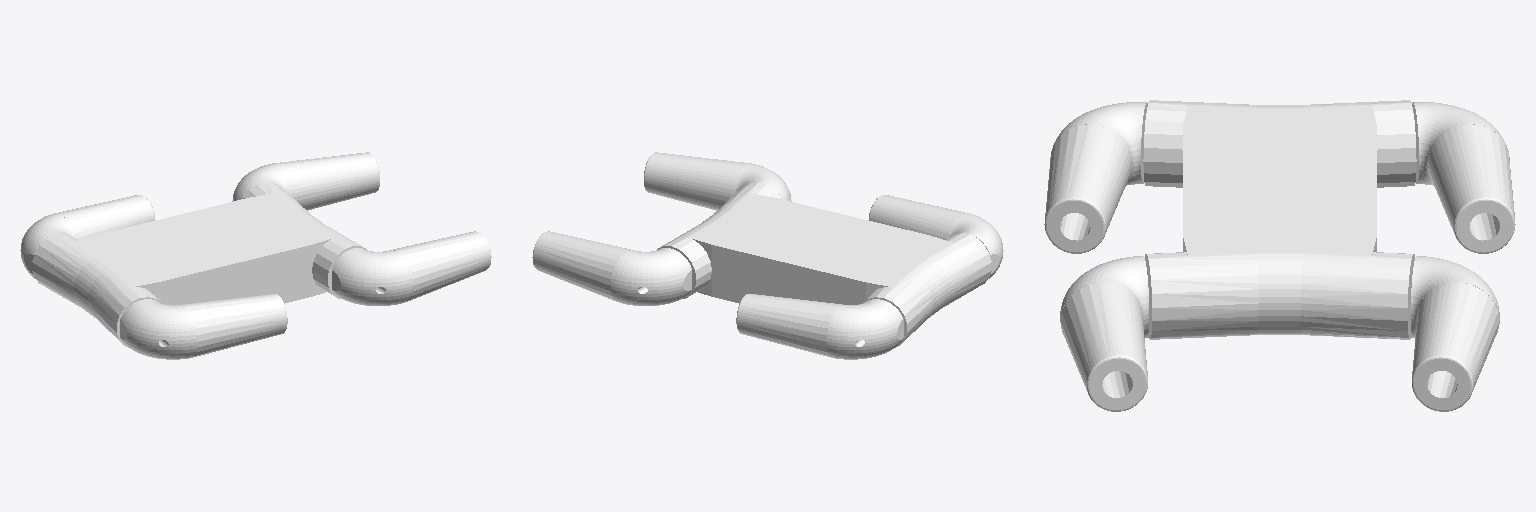
The robot description file, URDF, robot "6_degree":
<?xml version="1.0" encoding="utf-8"?>
<!-- This URDF was automatically created by SolidWorks to URDF Exporter! Originally created by [author] ([email redacted]) 
     Commit Version: 1.5.1-0-g916b5db  Build Version: 1.5.7152.31018
     For more information, please see http://wiki.ros.org/sw_urdf_exporter -->
<robot
  name="6_degree">
  <link
    name="base_link">
    <inertial>
      <origin
        xyz="4.1633E-17 2.2879E-08 3.4694E-18"
        rpy="0 0 0" />
      <mass
        value="2.942" />
      <inertia
        ixx="0.0109371"
        ixy="3.7885E-19"
        ixz="-1.0475E-10"
        iyy="0.0387408"
        iyz="2.1879E-19"
        izz="0.0470592" />
    </inertial>
    <visual>
      <origin
        xyz="0 0 0"
        rpy="0 0 0" />
      <geometry>
        <mesh
          filename="package://6_degree/meshes/base_link.STL" />
      </geometry>
      <material
        name="">
        <color
          rgba="1 1 1 1" />
      </material>
    </visual>
    <collision>
      <origin
        xyz="0 0 0"
        rpy="0 0 0" />
      <geometry>
        <mesh
          filename="package://6_degree/meshes/base_link.STL" />
      </geometry>
    </collision>
  </link>
  <link
    name="left_front_link">
    <inertial>
      <origin
        xyz="-3.0104E-08 0.056829 -0.036011"
        rpy="0 0 0" />
      <mass
        value="0.095" />
      <inertia
        ixx="0.0002672"
        ixy="6.0354E-10"
        ixz="9.5063E-10"
        iyy="0.0000540"
        iyz="2.33E-05"
        izz="0.0002642" />
    </inertial>
    <visual>
      <origin
        xyz="0 0 0"
        rpy="0 0 0" />
      <geometry>
        <mesh
          filename="package://6_degree/meshes/left_front_link.STL" />
      </geometry>
      <material
        name="">
        <color
          rgba="1 1 1 1" />
      </material>
    </visual>
    <collision>
      <origin
        xyz="0 0 0"
        rpy="0 0 0" />
      <geometry>
        <mesh
          filename="package://6_degree/meshes/left_front_link.STL" />
      </geometry>
    </collision>
  </link>
  <joint
    name="left_front_leg"
    type="continuous">
    <origin
      xyz="0.14077 0.10244 0"
      rpy="1.6755 1.5708 0" />
    <parent
      link="base_link" />
    <child
      link="left_front_link" />
    <axis
      xyz="0 0 -1" />
    <limit
      effort="5"
      velocity="487" />
  </joint>
  <link
    name="right_front_link">
    <inertial>
      <origin
        xyz="3.0104E-08 0.056829 0.036011"
        rpy="0 0 0" />
      <mass
        value="0.095" />
      <inertia
        ixx="0.0002672"
        ixy="-6.0354E-10"
        ixz="9.5063E-10"
        iyy="0.0000540"
        iyz="-2.33E-05"
        izz="0.0002642" />
    </inertial>
    <visual>
      <origin
        xyz="0 0 0"
        rpy="0 0 0" />
      <geometry>
        <mesh
          filename="package://6_degree/meshes/right_front_link.STL" />
      </geometry>
      <material
        name="">
        <color
          rgba="1 1 1 1" />
      </material>
    </visual>
    <collision>
      <origin
        xyz="0 0 0"
        rpy="0 0 0" />
      <geometry>
        <mesh
          filename="package://6_degree/meshes/right_front_link.STL" />
      </geometry>
    </collision>
  </link>
  <joint
    name="right_front_leg"
    type="continuous">
    <origin
      xyz="0.14077 -0.10244 0"
      rpy="1.4661 1.5708 0" />
    <parent
      link="base_link" />
    <child
      link="right_front_link" />
    <axis
      xyz="0 0 1" />
    <limit
      effort="5"
      velocity="487" />
  </joint>
  <link
    name="right_back_link">
    <inertial>
      <origin
        xyz="6.1735E-09 0.05683 0.03601"
        rpy="0 0 0" />
      <mass
        value="0.095" />
      <inertia
        ixx="0.0002672"
        ixy="-6.7284E-10"
        ixz="6.8395E-10"
        iyy="0.0000540"
        iyz="-2.33E-05"
        izz="0.0002642" />
    </inertial>
    <visual>
      <origin
        xyz="0 0 0"
        rpy="0 0 0" />
      <geometry>
        <mesh
          filename="package://6_degree/meshes/right_back_link.STL" />
      </geometry>
      <material
        name="">
        <color
          rgba="1 1 1 1" />
      </material>
    </visual>
    <collision>
      <origin
        xyz="0 0 0"
        rpy="0 0 0" />
      <geometry>
        <mesh
          filename="package://6_degree/meshes/right_back_link.STL" />
      </geometry>
    </collision>
  </link>
  <joint
    name="right_back_leg"
    type="continuous">
    <origin
      xyz="-0.14077 -0.10244 0"
      rpy="1.6755 1.5708 0" />
    <parent
      link="base_link" />
    <child
      link="right_back_link" />
    <axis
      xyz="0 0 1" />
    <limit
      effort="5"
      velocity="487" />
  </joint>
  <link
    name="left_back_link">
    <inertial>
      <origin
        xyz="-6.1735E-09 0.05683 -0.03601"
        rpy="0 0 0" />
      <mass
        value="0.095" />
      <inertia
        ixx="0.0002672"
        ixy="6.7284E-10"
        ixz="6.8395E-10"
        iyy="0.0000540"
        iyz="2.33E-05"
        izz="0.0002642" />
    </inertial>
    <visual>
      <origin
        xyz="0 0 0"
        rpy="0 0 0" />
      <geometry>
        <mesh
          filename="package://6_degree/meshes/left_back_link.STL" />
      </geometry>
      <material
        name="">
        <color
          rgba="1 1 1 1" />
      </material>
    </visual>
    <collision>
      <origin
        xyz="0 0 0"
        rpy="0 0 0" />
      <geometry>
        <mesh
          filename="package://6_degree/meshes/left_back_link.STL" />
      </geometry>
    </collision>
  </link>
  <joint
    name="left_back_leg"
    type="continuous">
    <origin
      xyz="-0.14077 0.10244 0"
      rpy="1.4661 1.5708 0" />
    <parent
      link="base_link" />
    <child
      link="left_back_link" />
    <axis
      xyz="0 0 -1" />
    <limit
      effort="5"
      velocity="487" />
  </joint>
</robot>

--- What the picture shows (computed from the rendered views, not written in the file) ---
3 views of the same robot in one strip: view 1: azimuth 30°, elevation 25°; view 2: azimuth 150°, elevation 25°; view 3: azimuth 270°, elevation 25° (orthographic).
Robot: 6_degree — 5 links, 4 joints (4 continuous); root link base_link; default pose: all joints at 0.
Links seen in each view (by area): view 1: base_link, right_back_link, right_front_link, left_front_link, left_back_link; view 2: base_link, left_back_link, left_front_link, right_front_link, right_back_link; view 3: base_link, left_back_link, right_back_link, left_front_link, right_front_link.
Boxes of the visible links, x1=… form: base_link: x1=32, y1=182, x2=366, y2=347; right_back_link: x1=120, y1=294, x2=287, y2=359; right_front_link: x1=332, y1=231, x2=491, y2=305; left_front_link: x1=232, y1=152, x2=379, y2=210; left_back_link: x1=20, y1=195, x2=154, y2=278; base_link: x1=657, y1=182, x2=991, y2=347; left_back_link: x1=736, y1=294, x2=903, y2=359; left_front_link: x1=532, y1=231, x2=691, y2=305; right_front_link: x1=644, y1=152, x2=791, y2=210; right_back_link: x1=869, y1=195, x2=1003, y2=278; base_link: x1=1143, y1=100, x2=1416, y2=339; left_back_link: x1=1412, y1=102, x2=1515, y2=253; right_back_link: x1=1044, y1=102, x2=1147, y2=253; left_front_link: x1=1411, y1=256, x2=1499, y2=411; right_front_link: x1=1060, y1=256, x2=1148, y2=411.
Bounding box of the posed robot: 0.4781 × 0.3655 × 0.0672 m (x, y, z).
Meshes: 5 distinct files referenced, 5 mesh visuals loaded (5 binary STL).